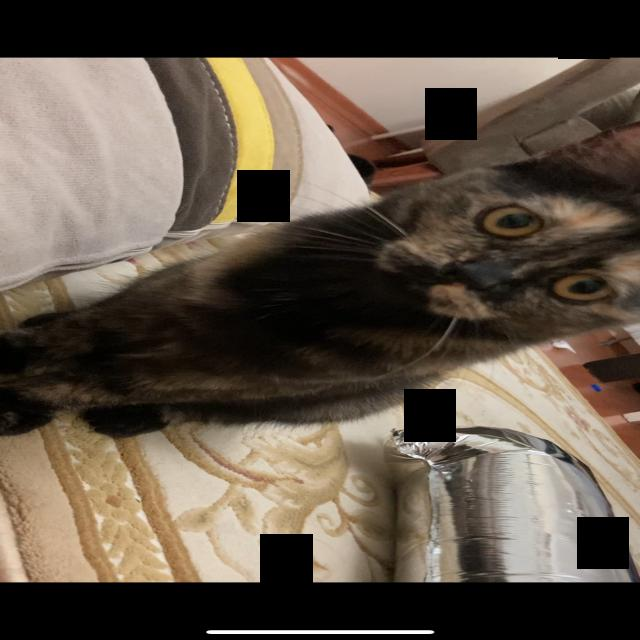authorized: (1, 121, 638, 440)
